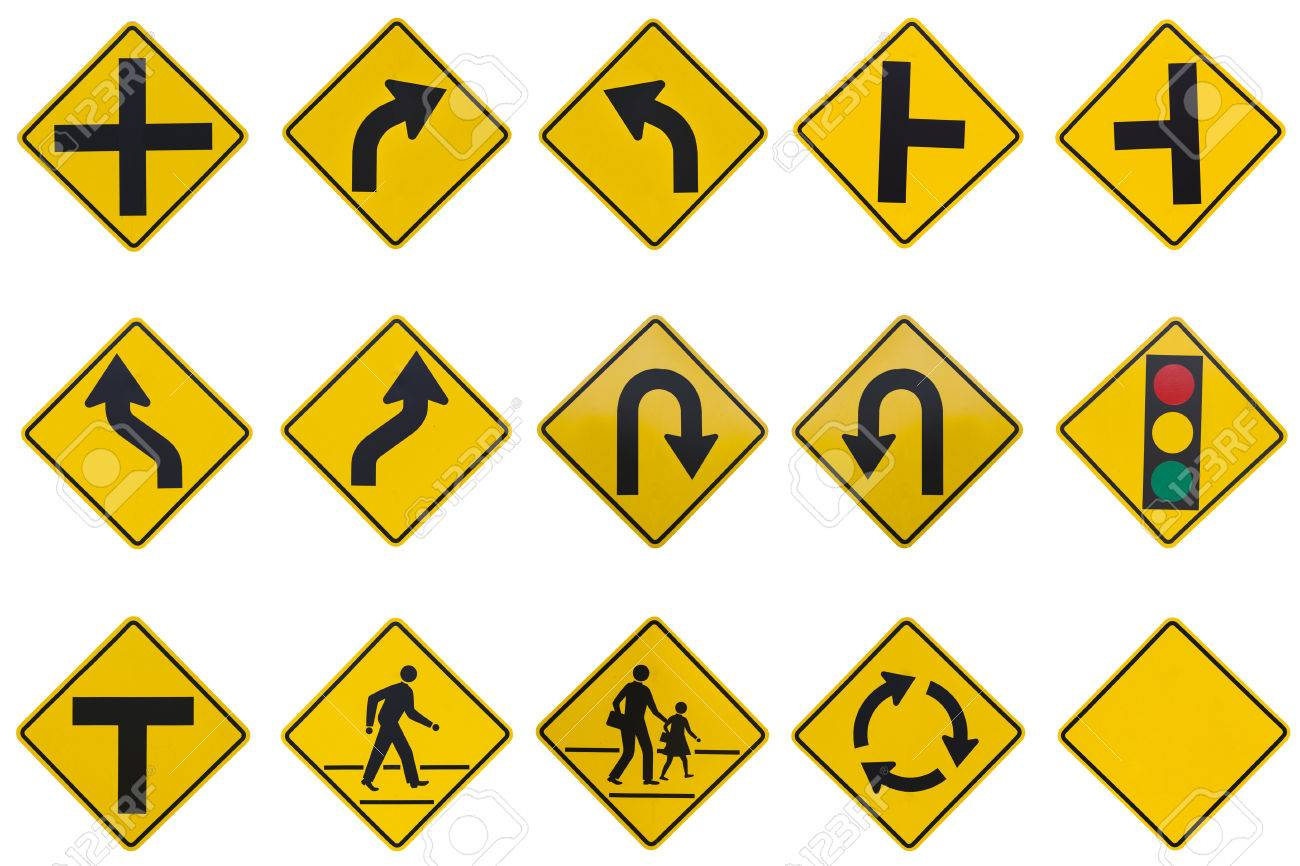left: (536, 17, 769, 248)
right: (272, 14, 522, 251)
